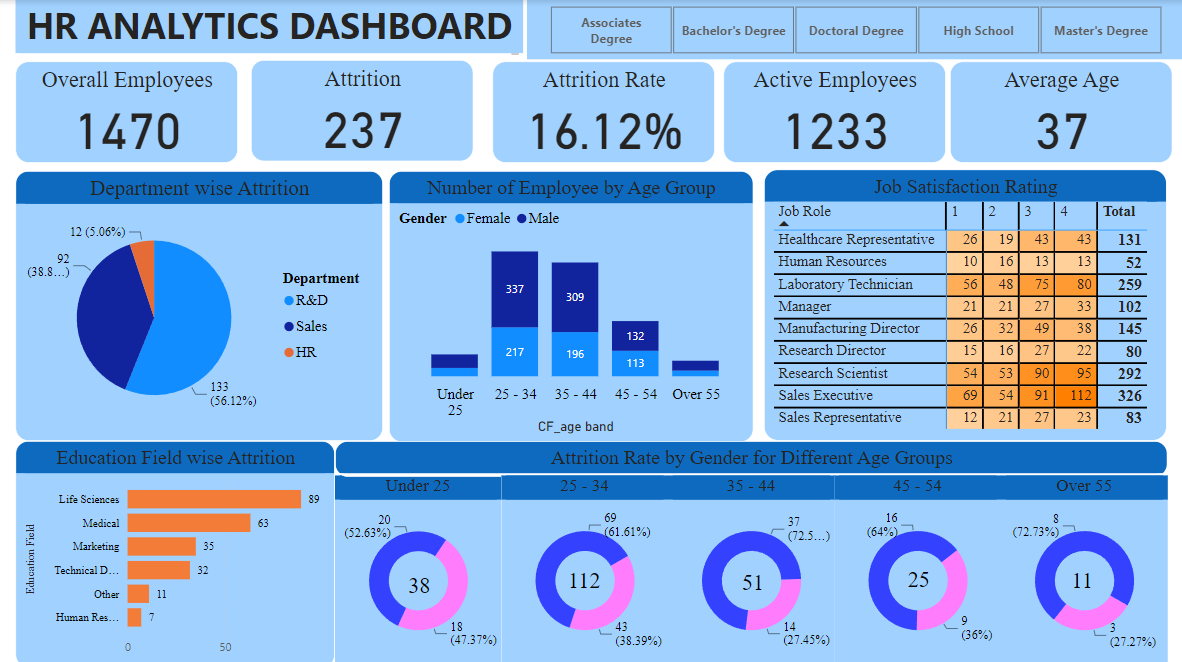

The dashboard page shown, as its layout file describes it:
{"tool":"powerbi","page":{"name":"Page 1","canvas":[1280,720],"ordinal":0},"visuals":[{"type":"card","title":"Overall Employees","fields":{"Values":["Sum(HR data.Employee Count)"]},"box":[17,66.1,240,109.6],"z":0},{"type":"card","title":"Attrition","fields":{"Values":["Sum(HR data.Attrition Count)"]},"box":[272.1,64.3,240,109.6],"z":1000},{"type":"card","title":"Attrition Rate","fields":{"Values":["HR data.Attrition Rate"]},"box":[532.9,66.1,240,109.6],"z":2000},{"type":"card","title":"Active Employees","fields":{"Values":["HR data.Active Employees"]},"box":[782.4,66.1,240,109.6],"z":3000},{"type":"card","title":"Average Age","fields":{"Values":["Avg(HR data.Age)"]},"box":[1026.1,66.1,240,109.6],"z":4000},{"type":"pieChart","title":"Department wise Attrition","fields":{"Category":["HR data.Department"],"Y":["Sum(HR data.Attrition Count)"]},"box":[17,185.2,396.9,291],"z":5000},{"type":"columnChart","title":"Number of Employee by Age Group","fields":{"Category":["HR data.CF_age band"],"Y":["Sum(HR data.Employee Count)"],"Series":["HR data.Gender"]},"box":[421.4,185.2,393.1,292.9],"z":6000},{"type":"pivotTable","title":"Job Satisfaction Rating","fields":{"Rows":["HR data.Job Role"],"Columns":["HR data.Job Satisfaction"],"Values":["Sum(HR data.Employee Count)"]},"box":[825.8,183.3,434.6,292.9],"z":7000},{"type":"barChart","title":"Education Field wise Attrition","fields":{"Category":["HR data.Education Field"],"Y":["Sum(HR data.Attrition Count)"]},"box":[17.8,476.1,344.9,244.5],"z":8000},{"type":"donutChart","title":"Under 25","fields":{"Category":["HR data.Gender"],"Y":["Sum(HR data.Attrition Count)"],"Series":["HR data.CF_age band"]},"box":[362.8,514,179.5,206],"z":9000},{"type":"textbox","title":"Attrition Rate by Gender for Different Age Groups","box":[362.7,476.1,898.7,38.9],"z":10000},{"type":"donutChart","title":"25 - 34","fields":{"Category":["HR data.Gender"],"Y":["Sum(HR data.Attrition Count)"],"Series":["HR data.CF_age band"]},"box":[542.4,513.3,179.7,205.6],"z":11000},{"type":"donutChart","title":"35 - 44","fields":{"Category":["HR data.Gender"],"Y":["Sum(HR data.Attrition Count)"],"Series":["HR data.CF_age band"]},"box":[722.2,513.3,179.7,205.6],"z":12000},{"type":"donutChart","title":"45 - 54","fields":{"Category":["HR data.Gender"],"Y":["Sum(HR data.Attrition Count)"],"Series":["HR data.CF_age band"]},"box":[901.9,513.3,179.7,205.6],"z":13000},{"type":"donutChart","title":"Over 55","fields":{"Category":["HR data.Gender"],"Y":["Sum(HR data.Attrition Count)"],"Series":["HR data.CF_age band"]},"box":[1081.6,513.3,179.7,205.6],"z":14000},{"type":"card","fields":{"Values":["Sum(HR data.Attrition Count)"]},"box":[435.6,616.9,35.6,29.1],"z":15000},{"type":"card","fields":{"Values":["Sum(HR data.Attrition Count)"]},"box":[608.8,607.2,45.3,38.9],"z":16000},{"type":"card","fields":{"Values":["Sum(HR data.Attrition Count)"]},"box":[791.8,612.1,43.7,34],"z":17000},{"type":"card","fields":{"Values":["Sum(HR data.Attrition Count)"]},"box":[971.5,602.4,42.1,47],"z":18000},{"type":"card","fields":{"Values":["Sum(HR data.Attrition Count)"]},"box":[1146.4,607.2,45.3,38.9],"z":19000},{"type":"textbox","title":"HR ANALYTICS DASHBOARD","box":[17,0,548,64.3],"z":20000},{"type":"slicer","fields":{"Values":["HR data.Education"]},"box":[570.7,0,708.7,64.3],"z":21000}]}

Visuals, with their boxes in screenshot pixels (x1, y1, x2, y2), scaled from the page's 1280x720 canvas onto the 1182x662 screenshot:
"Overall Employees" card: x1=16 y1=61 x2=237 y2=162
"Attrition" card: x1=251 y1=59 x2=473 y2=160
"Attrition Rate" card: x1=492 y1=61 x2=714 y2=162
"Active Employees" card: x1=722 y1=61 x2=944 y2=162
"Average Age" card: x1=948 y1=61 x2=1169 y2=162
"Department wise Attrition" pieChart: x1=16 y1=170 x2=382 y2=438
"Number of Employee by Age Group" columnChart: x1=389 y1=170 x2=752 y2=440
"Job Satisfaction Rating" pivotTable: x1=763 y1=169 x2=1164 y2=438
"Education Field wise Attrition" barChart: x1=16 y1=438 x2=335 y2=661
"Under 25" donutChart: x1=335 y1=473 x2=501 y2=661
"Attrition Rate by Gender for Different Age Groups" textbox: x1=335 y1=438 x2=1165 y2=474
"25 - 34" donutChart: x1=501 y1=472 x2=667 y2=661
"35 - 44" donutChart: x1=667 y1=472 x2=833 y2=661
"45 - 54" donutChart: x1=833 y1=472 x2=999 y2=661
"Over 55" donutChart: x1=999 y1=472 x2=1165 y2=661
card - Sum(HR data.Attrition Count): x1=402 y1=567 x2=435 y2=594
card - Sum(HR data.Attrition Count): x1=562 y1=558 x2=604 y2=594
card - Sum(HR data.Attrition Count): x1=731 y1=563 x2=772 y2=594
card - Sum(HR data.Attrition Count): x1=897 y1=554 x2=936 y2=597
card - Sum(HR data.Attrition Count): x1=1059 y1=558 x2=1100 y2=594
"HR ANALYTICS DASHBOARD" textbox: x1=16 y1=0 x2=522 y2=59
slicer - HR data.Education: x1=527 y1=0 x2=1181 y2=59
